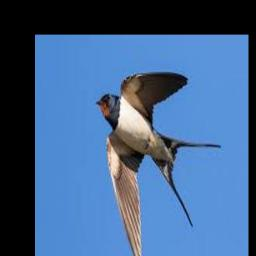Swallow: (96, 71, 221, 256)
